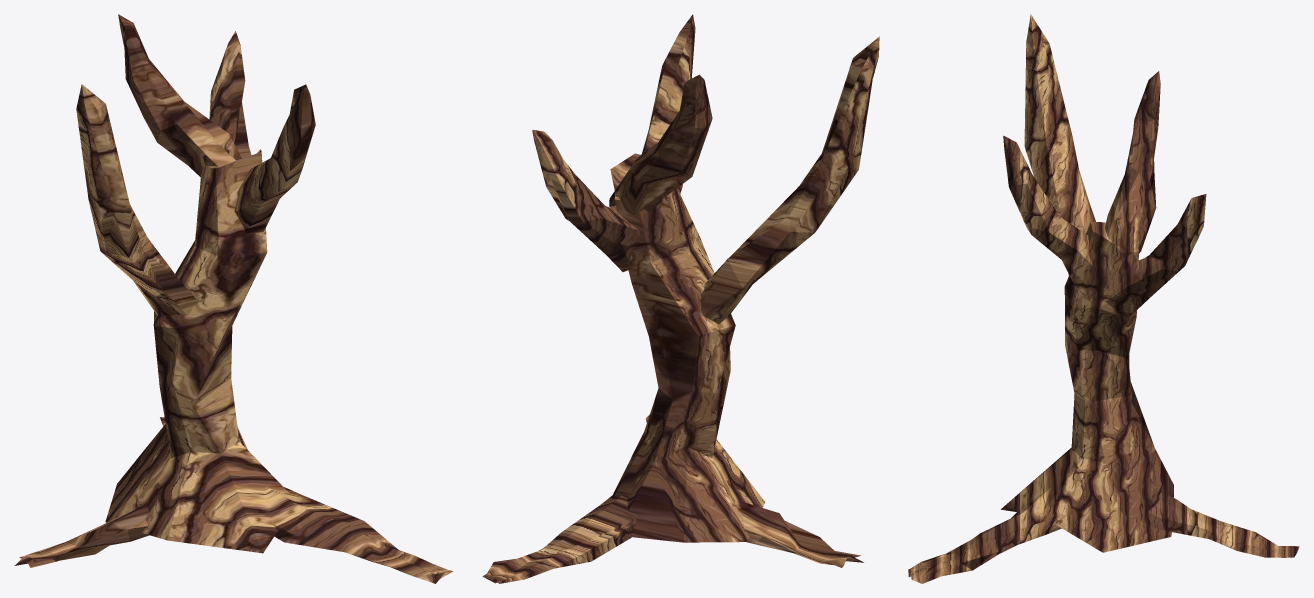
Rendered from Arvore.fbx.
3 views of the same model, side by side, from view 1: azimuth 30°, elevation 25°; view 2: azimuth 150°, elevation 25°; view 3: azimuth 270°, elevation 25° (orthographic). The views are drawn at different scales.
Parts seen in each view (by area): view 1: Cube.009; view 2: Cube.009; view 3: Cube.009.
Boxes of the visible parts, x1,y1,x2,y2 form: Cube.009: (14, 14, 453, 583); Cube.009: (482, 14, 879, 583); Cube.009: (908, 14, 1299, 583).
Size of the model in its own units: 918 by 1373 by 1095.
Materials: 1 (1 with a texture image).
